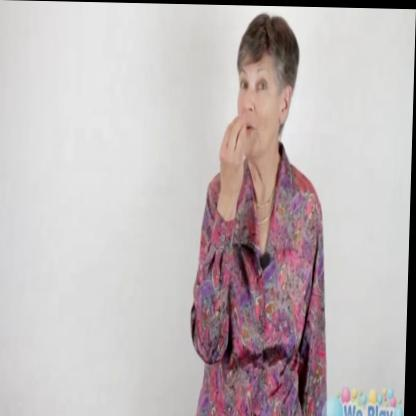Food: (219, 8, 313, 198)
